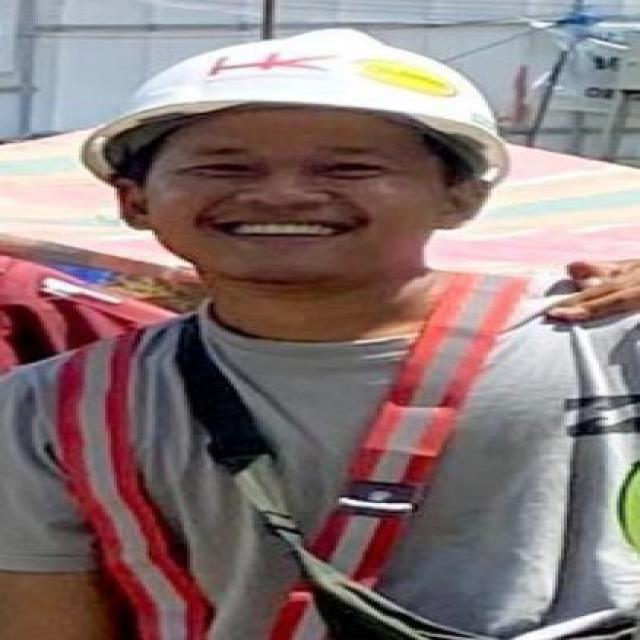safetyhelmet: (77, 22, 520, 224)
